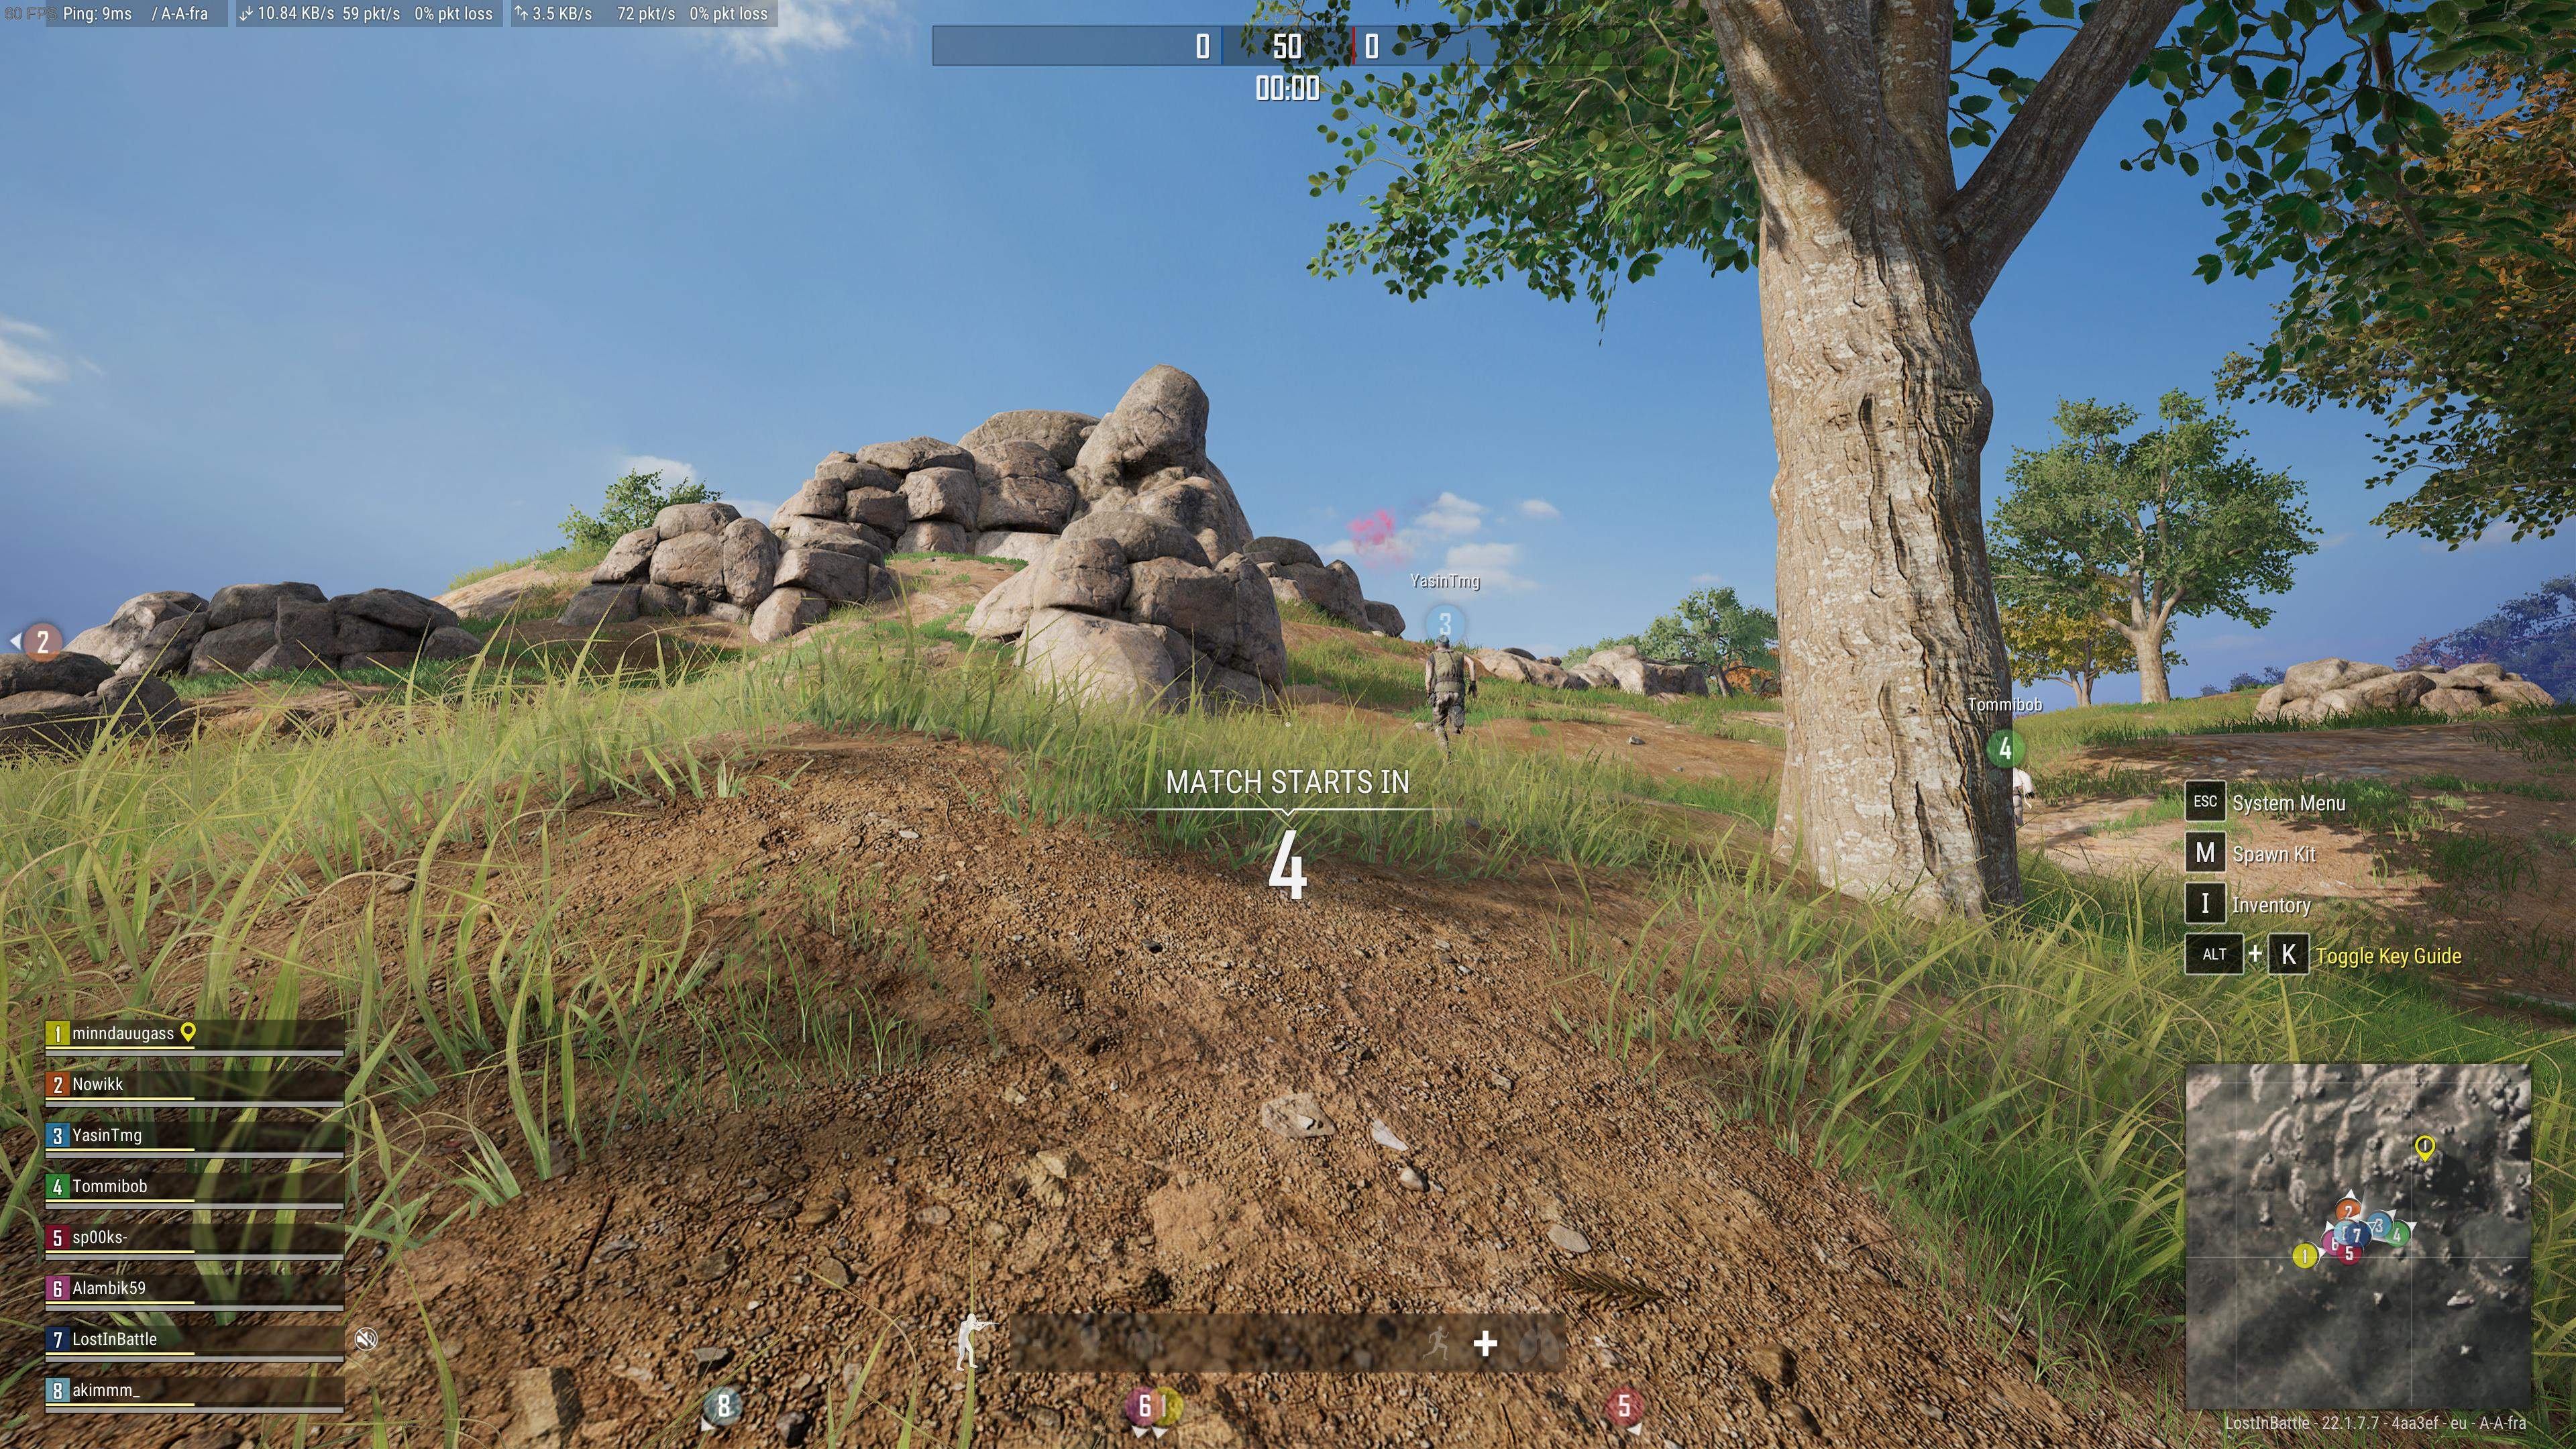friendly: (1422, 619, 1479, 766)
